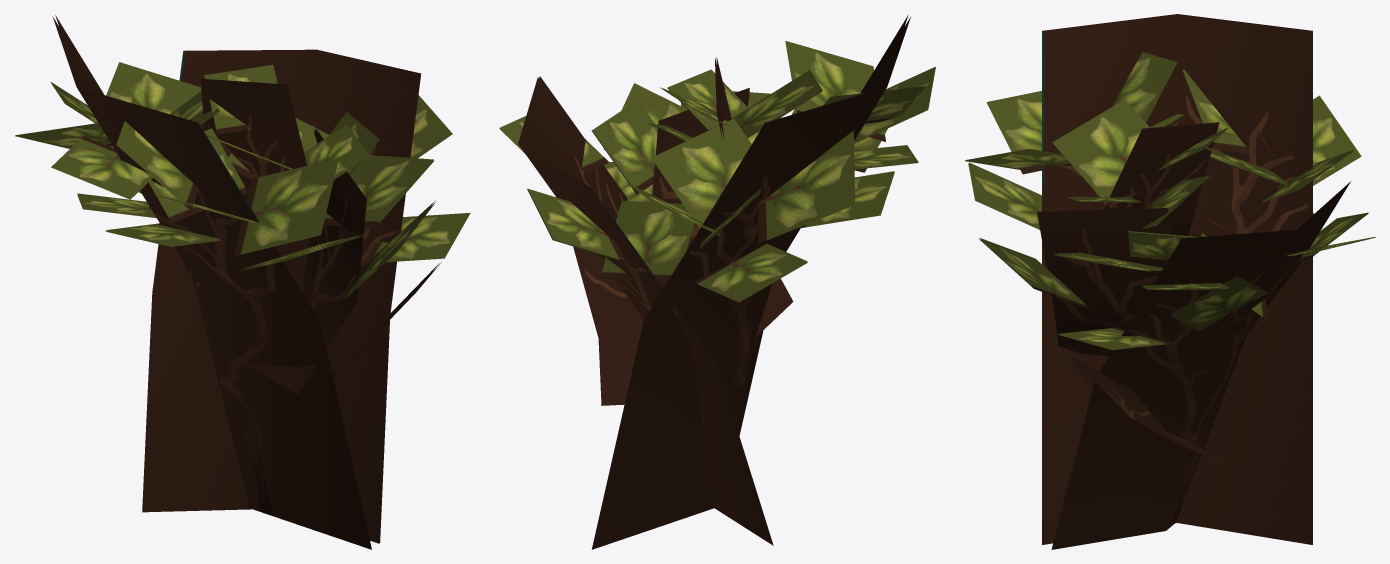
The model's file is bush_01a.fbx.
The picture shows the model from 3 angles, left to right: view 1: azimuth 30°, elevation 25°; view 2: azimuth 150°, elevation 25°; view 3: azimuth 270°, elevation 25°; orthographic projection. The views are drawn at different scales.
Parts seen in each view (by area): view 1: bush_01a; view 2: bush_01a; view 3: bush_01a.
Part boxes in pixels (left/top/right/bottom): bush_01a: left=15, top=15, right=470, bottom=549; bush_01a: left=499, top=15, right=935, bottom=549; bush_01a: left=965, top=14, right=1375, bottom=549.
Size of the model in its own units: 6.81 by 7.78 by 6.66.
